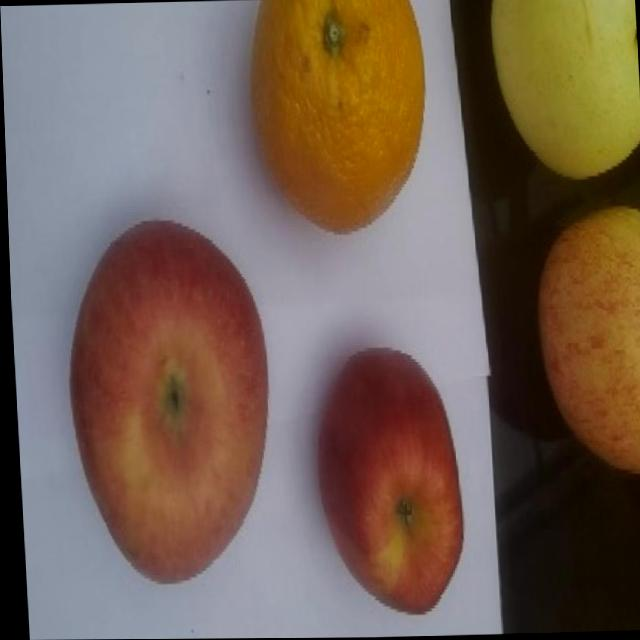Apple: (58, 216, 275, 585), (307, 344, 463, 616), (528, 203, 640, 477)
Orange: (243, 0, 430, 236)
